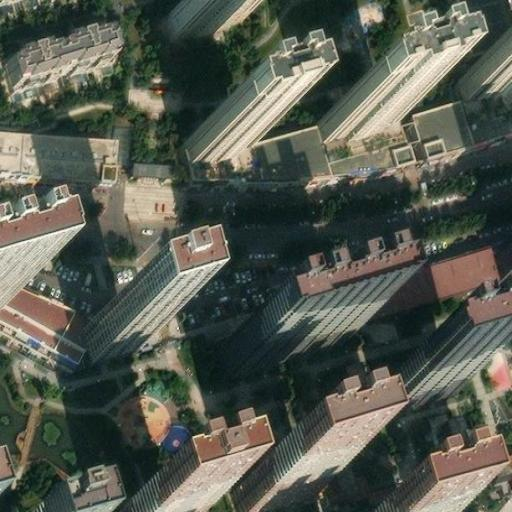building: (176, 108, 409, 176), (213, 297, 344, 369), (0, 121, 122, 176), (416, 87, 512, 152), (8, 23, 114, 80), (247, 437, 326, 493), (319, 88, 405, 139), (386, 341, 465, 394), (184, 114, 254, 165), (461, 0, 512, 65), (88, 293, 148, 342), (114, 478, 192, 512), (172, 0, 254, 31), (464, 47, 512, 97), (126, 161, 172, 182), (493, 228, 512, 272), (393, 496, 422, 512), (382, 92, 390, 100)
